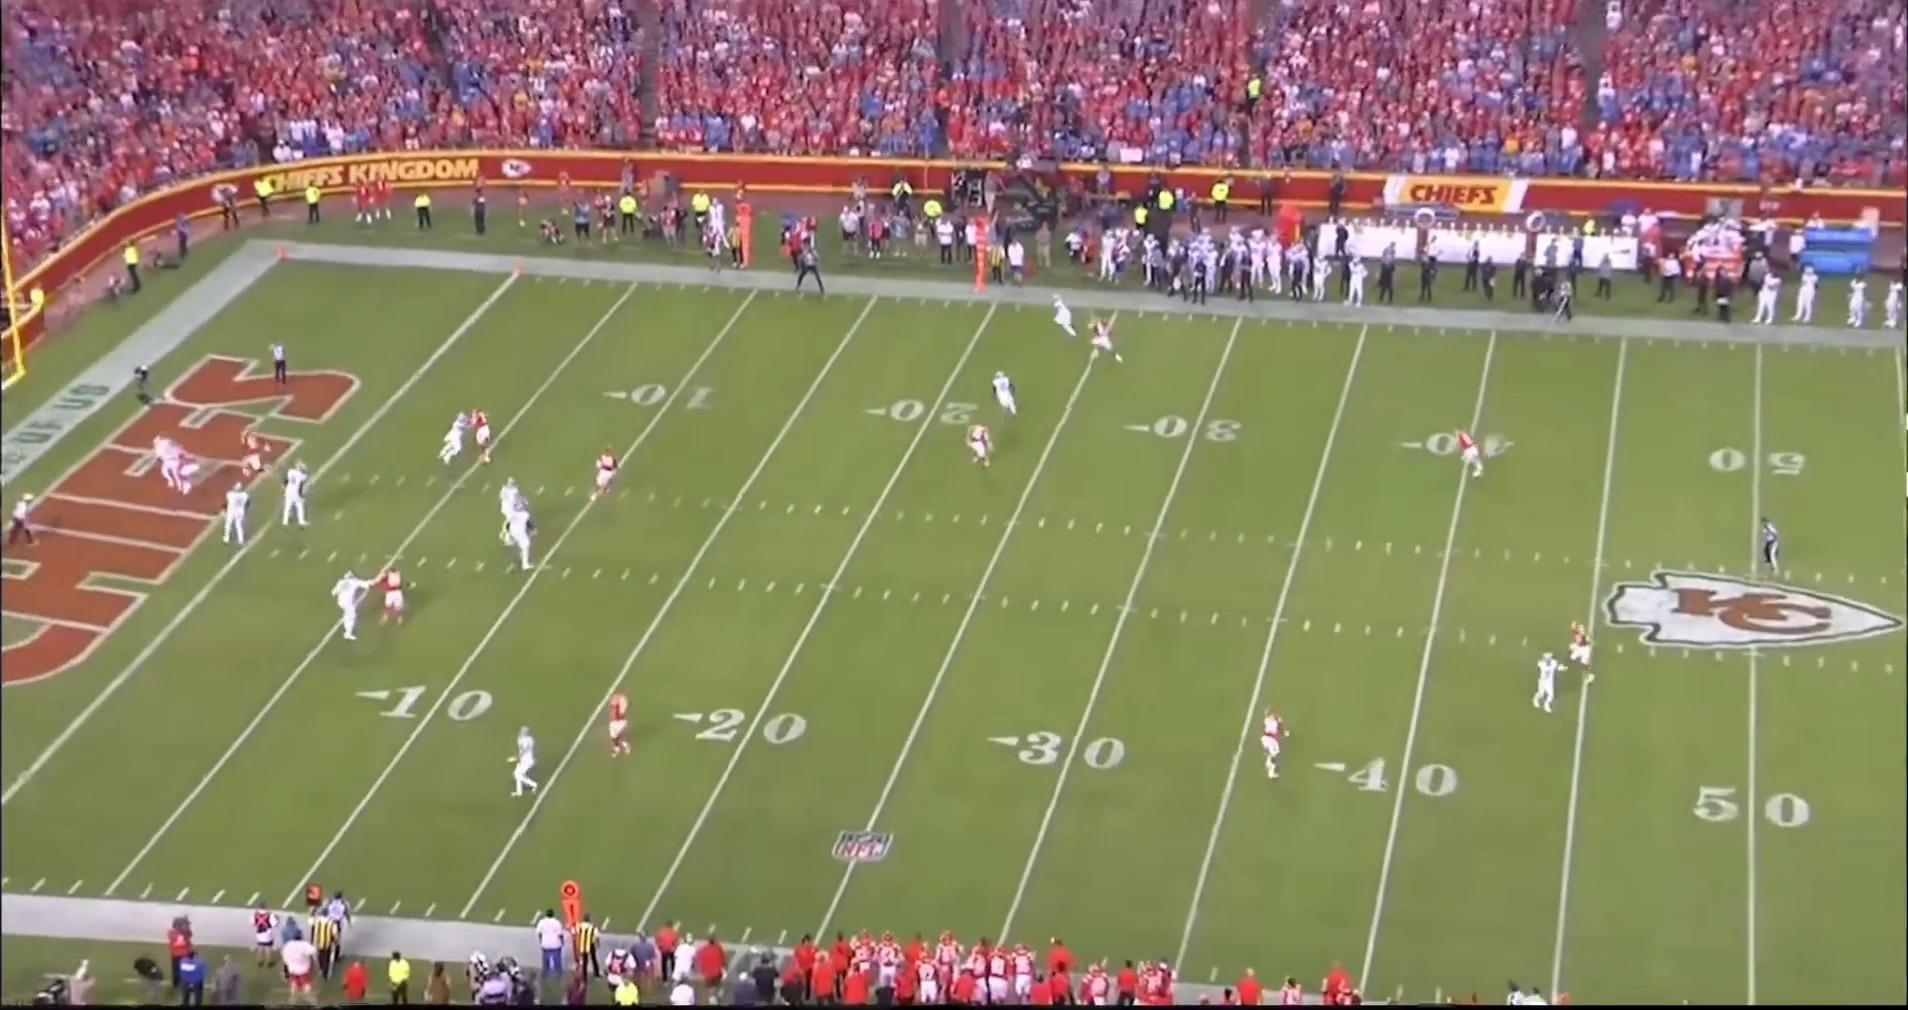player: (324, 566, 368, 640), (510, 723, 546, 799), (1558, 620, 1597, 687), (1260, 712, 1295, 783), (236, 424, 273, 490), (279, 461, 314, 530), (151, 437, 190, 498), (506, 503, 540, 572), (601, 690, 633, 762), (503, 477, 536, 546), (1525, 652, 1559, 718), (218, 482, 251, 549), (376, 565, 411, 627), (439, 410, 476, 467), (589, 447, 625, 504), (1084, 316, 1123, 366), (466, 409, 499, 466), (1452, 428, 1485, 480), (1049, 292, 1082, 342), (991, 367, 1023, 417), (969, 424, 1000, 474), (175, 451, 199, 499)
ref: (6, 491, 39, 555), (1754, 515, 1785, 579), (790, 244, 826, 294), (269, 337, 294, 394), (1549, 275, 1576, 326)
